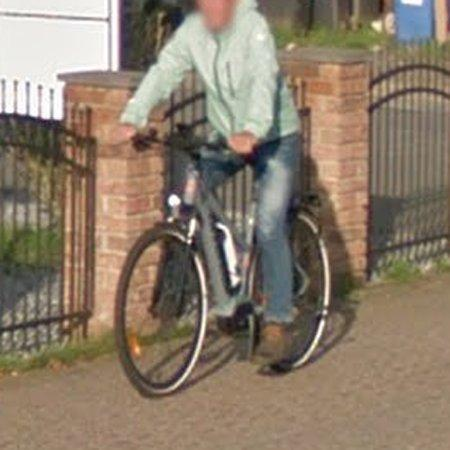bicycles: (115, 97, 264, 396), (287, 207, 332, 368)
